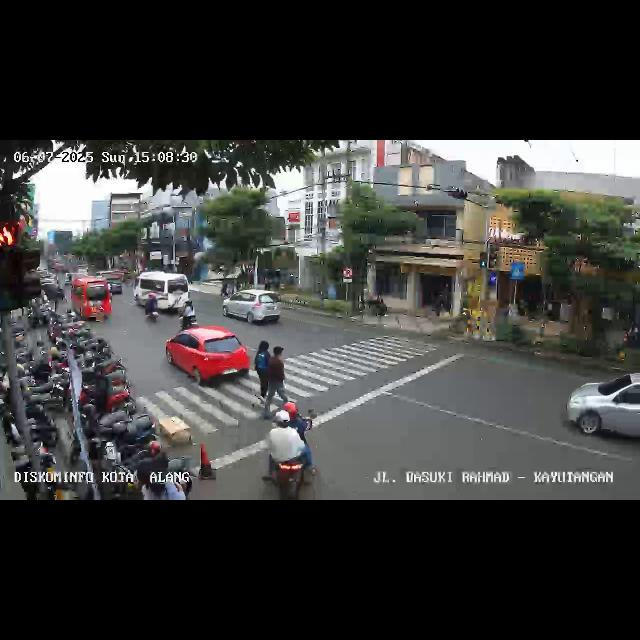car: (568, 373, 640, 452), (165, 325, 253, 387), (135, 272, 191, 314), (222, 290, 282, 328), (70, 276, 112, 324)
motorcycle: (258, 409, 316, 496), (179, 297, 199, 329), (144, 292, 160, 324)
person: (266, 341, 288, 415), (255, 338, 272, 408)
